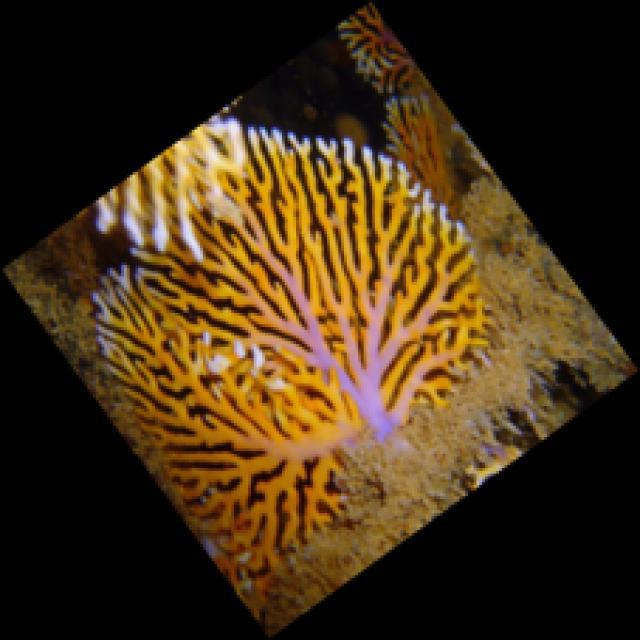Healthy: (91, 126, 486, 599), (94, 114, 249, 251)
